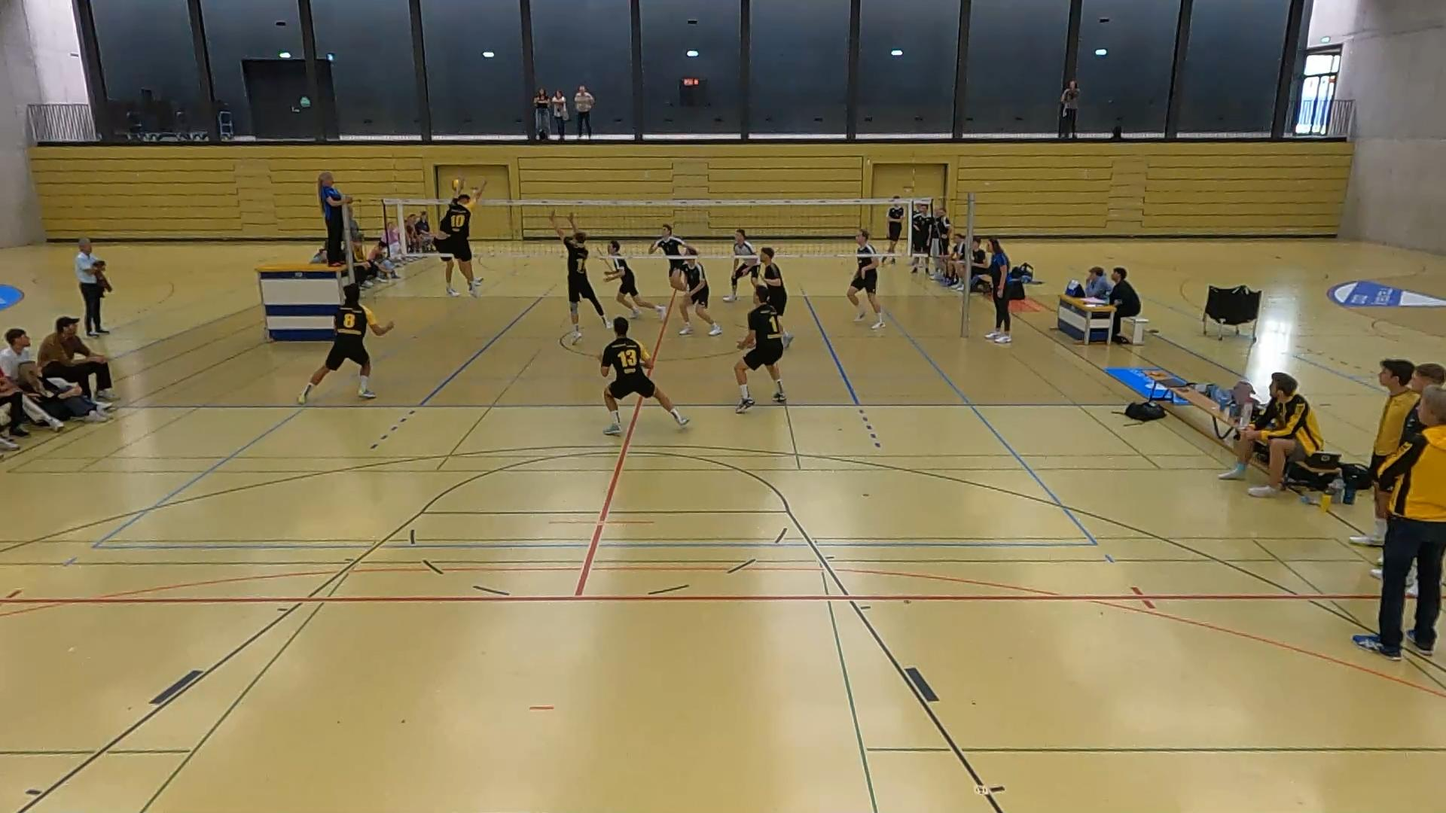attacco: (422, 187, 459, 300)
muro: (433, 179, 505, 303)
